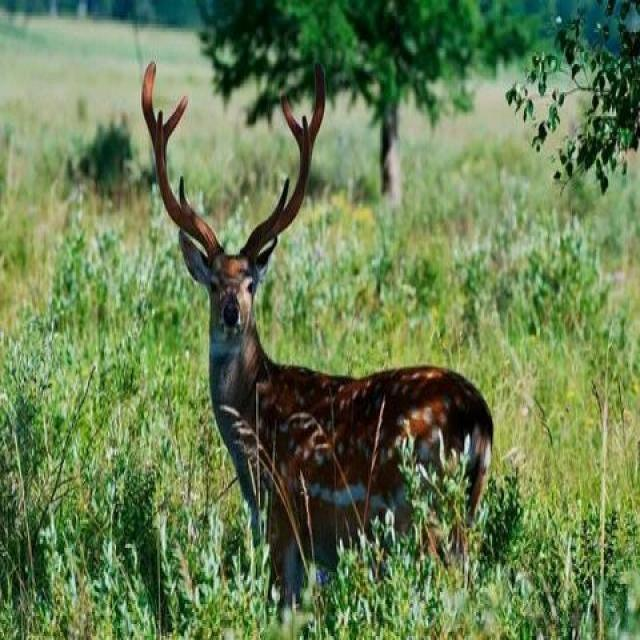deer: (151, 99, 524, 565)
